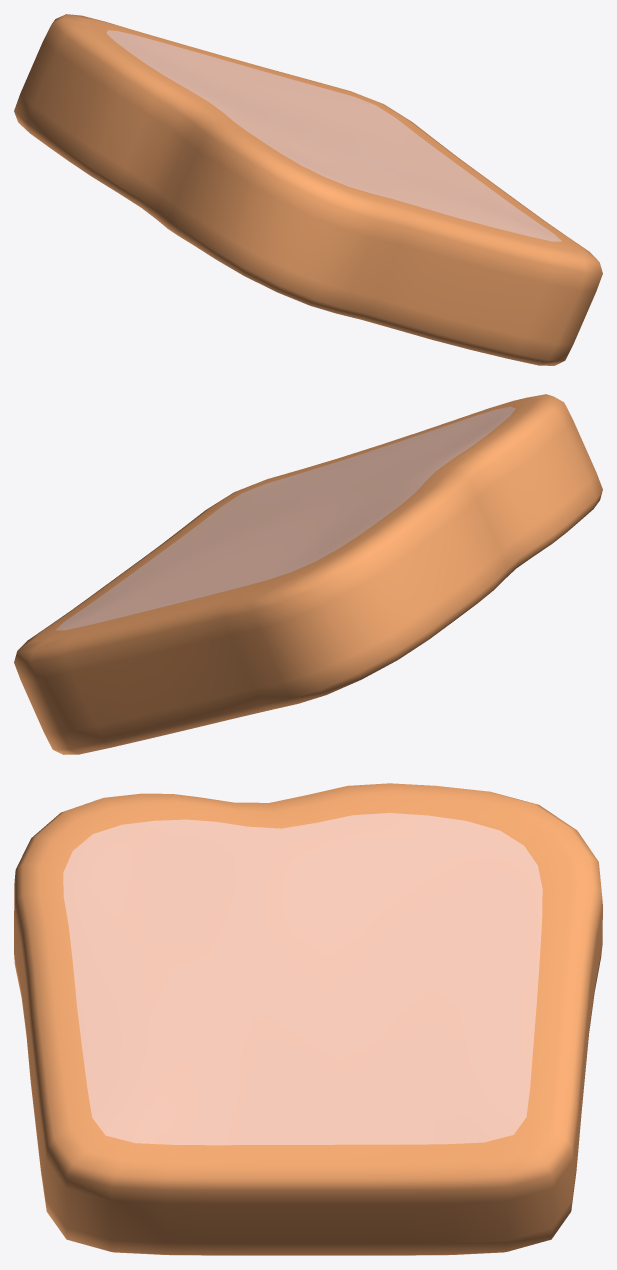
The model's file is Loaf_02.fbx.
3 renders of one model, top to bottom at view 1: azimuth 30°, elevation 25°; view 2: azimuth 150°, elevation 25°; view 3: azimuth 270°, elevation 25°, orthographic. The views are drawn at different scales.
Parts seen in each view (by area): view 1: Loaf_02_LOD0; view 2: Loaf_02_LOD0; view 3: Loaf_02_LOD0.
Part boxes in pixels (x1=…): Loaf_02_LOD0: x1=14, y1=14, x2=602, y2=365; Loaf_02_LOD0: x1=14, y1=394, x2=602, y2=754; Loaf_02_LOD0: x1=14, y1=783, x2=602, y2=1255.
Size of what is drawn, in the model's own units: 432 by 292 by 504.
